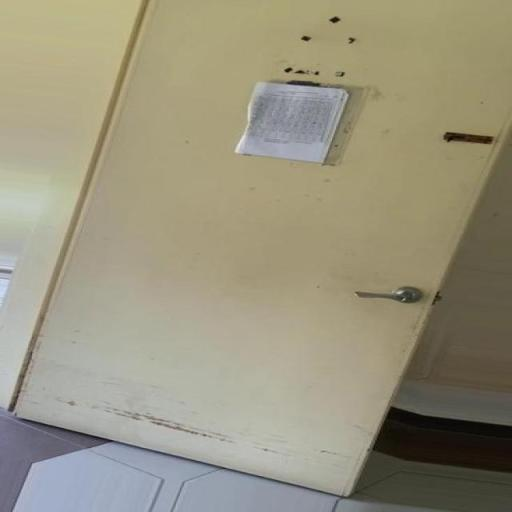door: (7, 0, 509, 496)
